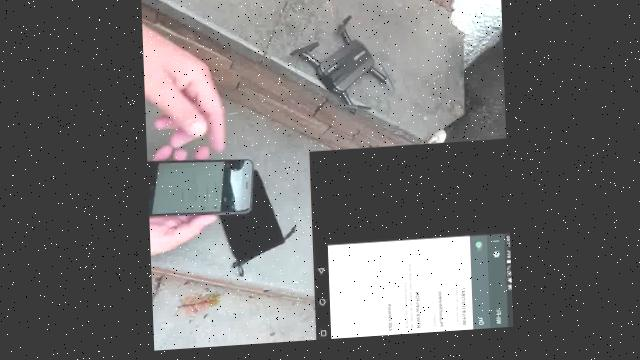drone: (277, 0, 403, 163)
